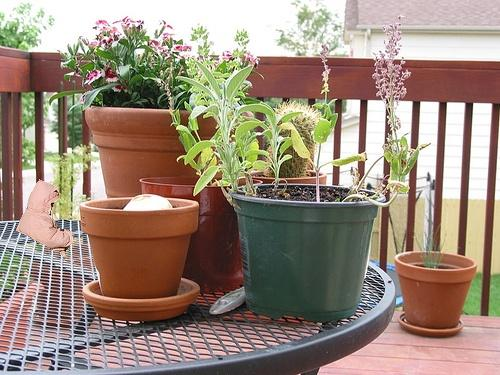tampered: (16, 180, 73, 256)
